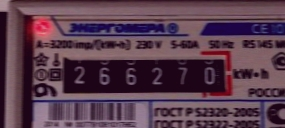0: (202, 63, 215, 83)
2: (71, 62, 86, 83), (149, 63, 163, 83)
6: (97, 63, 110, 84), (124, 64, 137, 84)
7: (175, 63, 187, 83)
screen: (53, 44, 237, 99)
